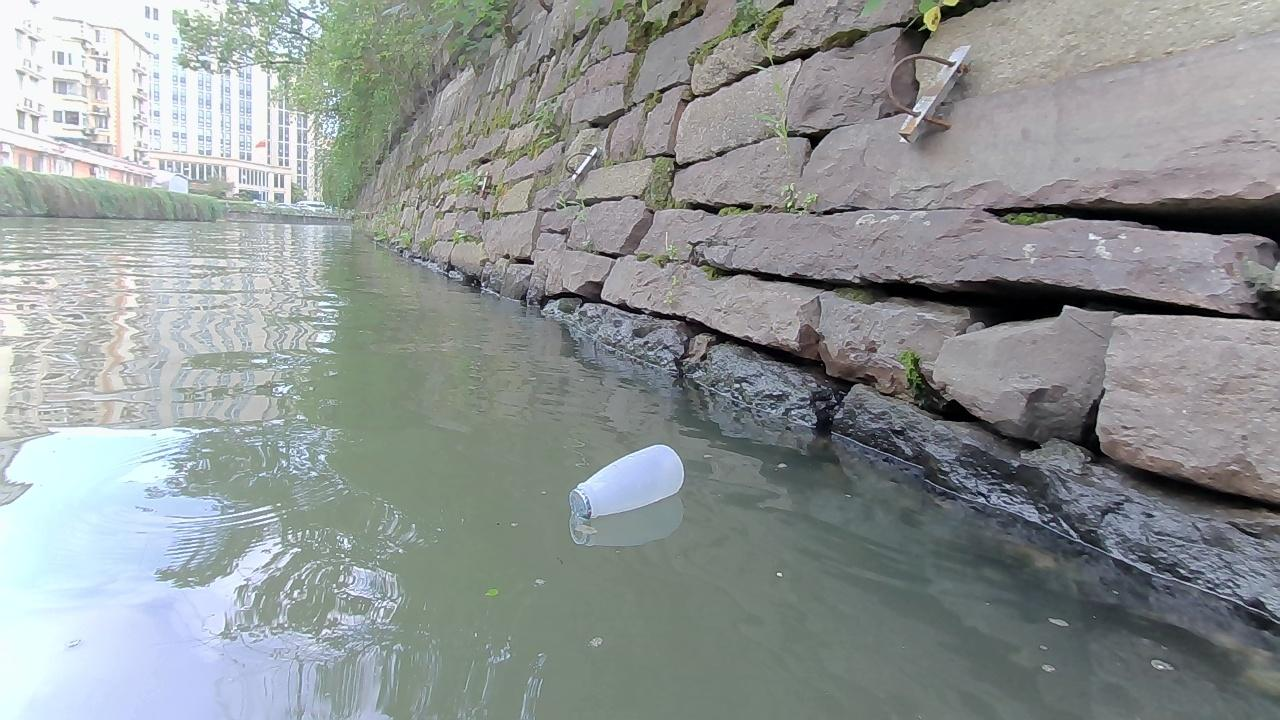bottle: (569, 441, 686, 519)
